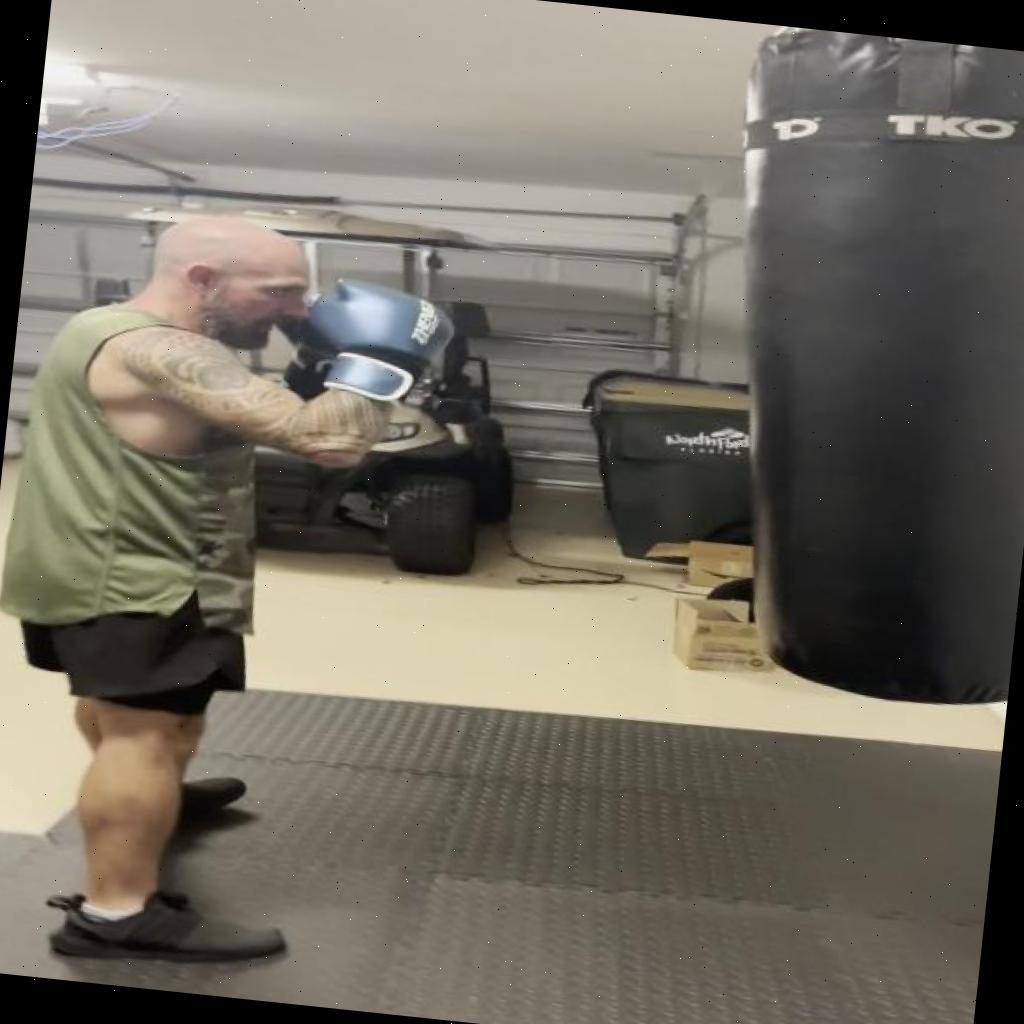bag: (671, 21, 1024, 713)
no punch: (46, 186, 452, 510)
